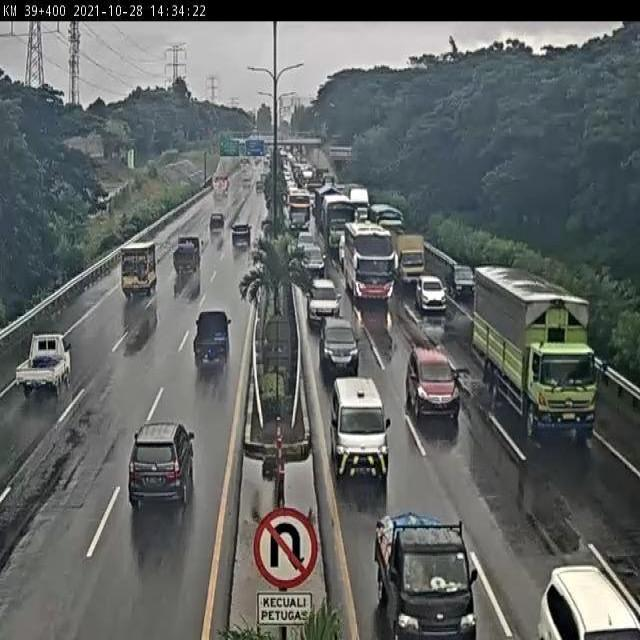big bus: (343, 225, 397, 307), (320, 190, 353, 242), (283, 195, 311, 236)
car: (374, 514, 479, 640), (333, 380, 390, 483), (128, 423, 195, 505), (407, 343, 467, 428), (320, 313, 359, 375), (445, 256, 479, 304), (306, 265, 338, 316), (411, 276, 448, 319), (299, 239, 321, 268), (230, 220, 251, 249), (292, 220, 309, 240)
small truck: (14, 331, 73, 398), (192, 306, 231, 366), (392, 230, 428, 290), (123, 241, 157, 299), (173, 237, 203, 280)
truck-l-: (474, 261, 612, 444)
